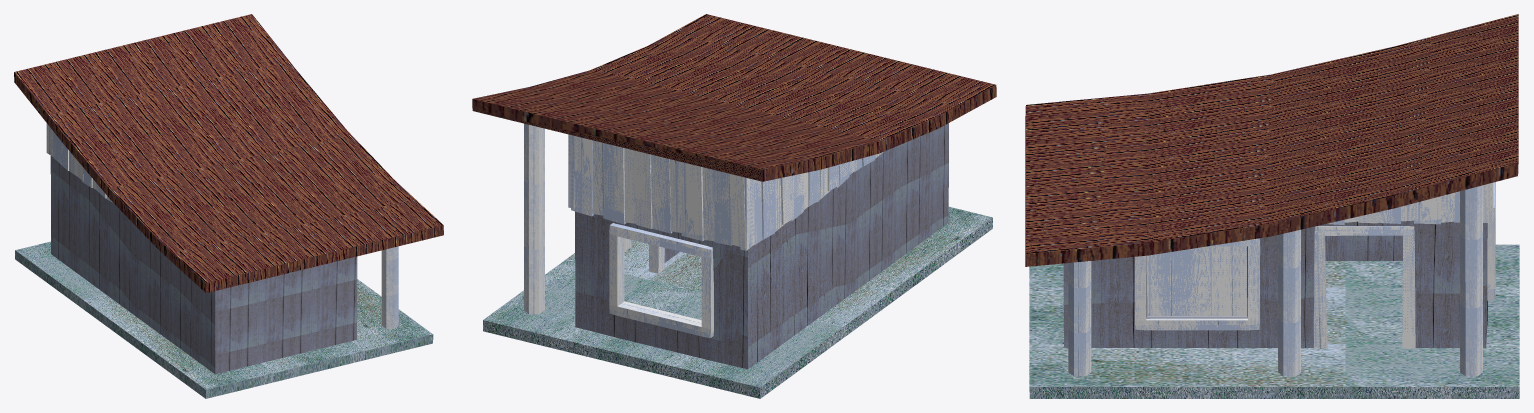
The model's file is casa 2 blender final.fbx.
The picture shows the model from 3 angles, left to right: view 1: azimuth 30°, elevation 25°; view 2: azimuth 150°, elevation 25°; view 3: azimuth 270°, elevation 25°; orthographic projection. The views are drawn at different scales.
Parts seen in each view (by area): view 1: Cube.001; view 2: Cube.001; view 3: Cube.001.
Boxes of the visible parts, bbox=[...] form: Cube.001: bbox=[14, 14, 443, 398]; Cube.001: bbox=[472, 14, 996, 398]; Cube.001: bbox=[1025, 14, 1519, 398].
Bounding box in the file's own units: 1247 × 942 × 1746.
4 materials, 4 textured.
